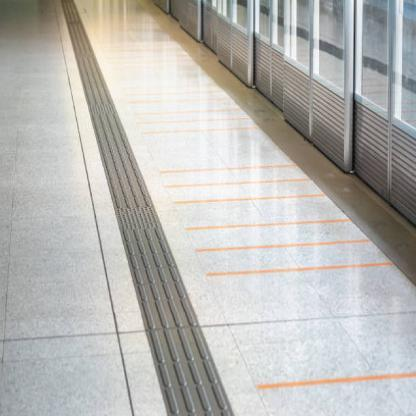podotacti: (43, 0, 258, 416)
